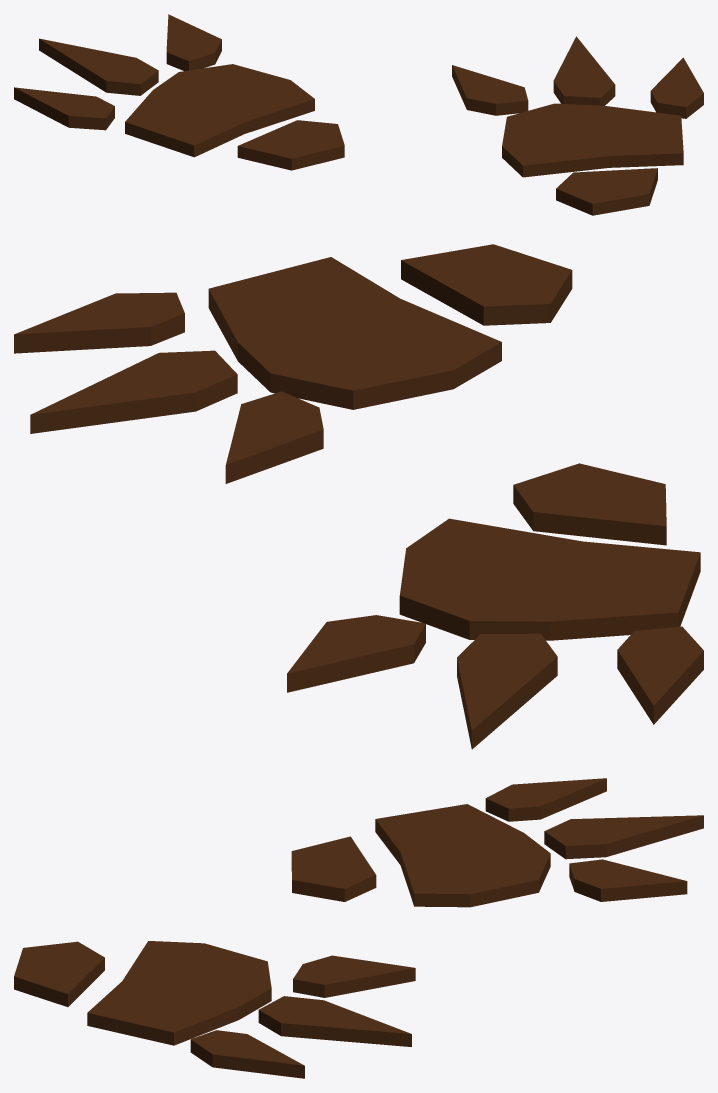
Rendered from slady_stwora.fbx.
3 views of the same model, one above another, from view 1: azimuth 30°, elevation 25°; view 2: azimuth 150°, elevation 25°; view 3: azimuth 270°, elevation 25° (orthographic). The views are drawn at different scales.
Parts seen in each view (by area): view 1: slady_stworaa; view 2: slady_stworaa; view 3: slady_stworaa.
Boxes of the visible parts, <box> form: slady_stworaa: <box>14,14,703,215</box>; slady_stworaa: <box>14,244,703,749</box>; slady_stworaa: <box>14,778,703,1078</box>.
Bounding box in the file's own units: 131 × 2.78 × 133.
